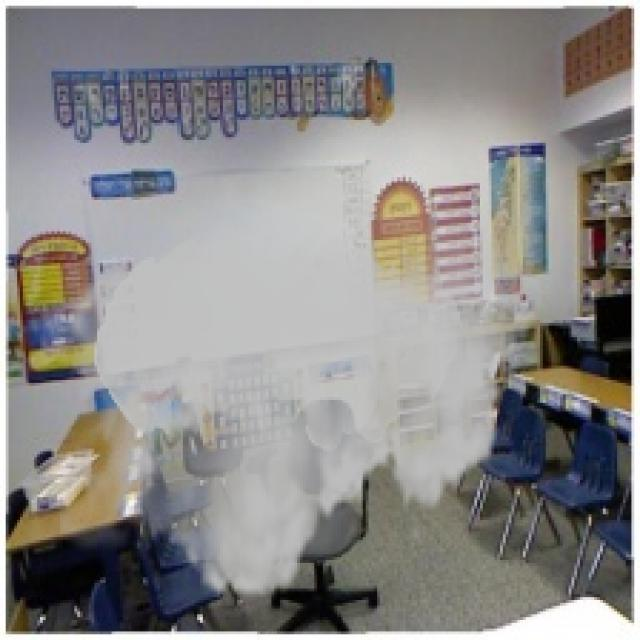smoke: (26, 57, 543, 620)
